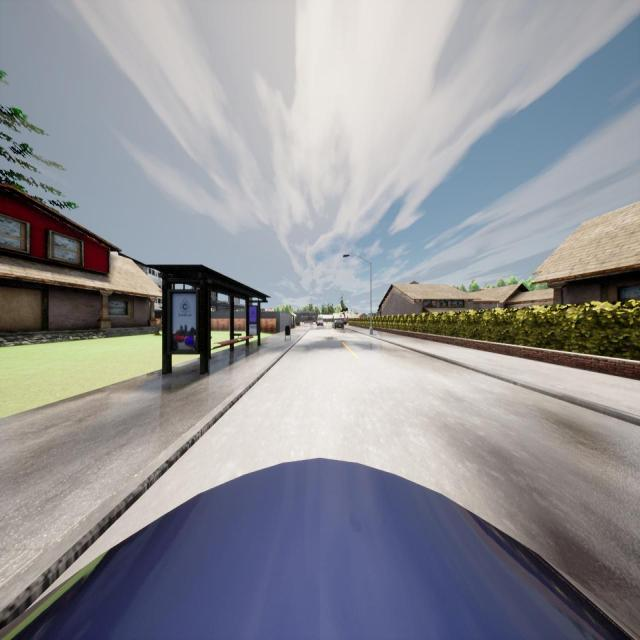Vehicle: (0, 455, 640, 640), (332, 319, 344, 330), (316, 314, 324, 326)
